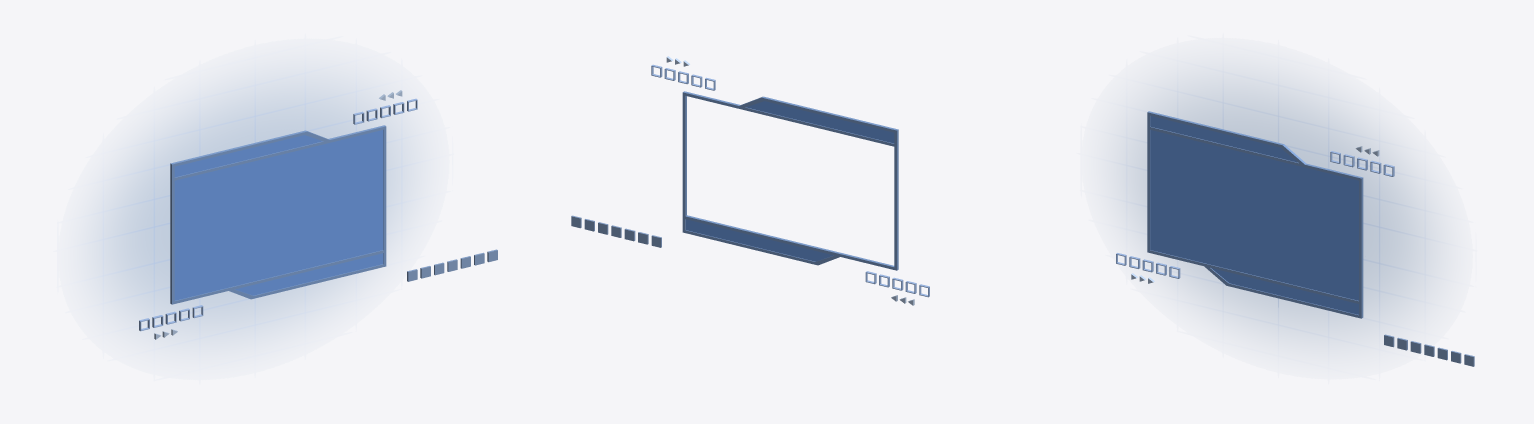
The model's file is sci-fi-monitor.glb.
3 renders of one model, left to right at view 1: azimuth 30°, elevation 25°; view 2: azimuth 150°, elevation 25°; view 3: azimuth 330°, elevation 25°, orthographic.
Parts seen in each view (by area): view 1: pPlane1, BG, pCube1, pCube19, pCube20, pCube2, pCube3; view 2: pCube1, pCube19, pCube20, pCube2, pCube3; view 3: pPlane1, BG, pCube1, pCube19, pCube20, pCube2, pCube3.
Part boxes in pixels (x1,y1,x2,y2): pPlane1: (174,130,383,300); BG: (94,73,412,341); pCube1: (170,125,386,304); pCube19: (174,135,322,177); pCube20: (235,253,383,295); pCube2: (170,130,329,178); pCube3: (229,252,386,299); pCube1: (682,91,898,270); pCube19: (746,101,894,143); pCube20: (686,219,833,261); pCube2: (739,96,898,144); pCube3: (682,218,839,265); pPlane1: (1150,130,1358,300); BG: (1118,71,1435,341); pCube1: (1147,126,1363,304); pCube19: (1150,116,1297,162); pCube20: (1211,268,1358,314); pCube2: (1147,111,1306,164); pCube3: (1204,266,1363,318).
Size of the model in its own units: 36 by 27 by 3.1.
Materials: 3 (2 with a texture image).
